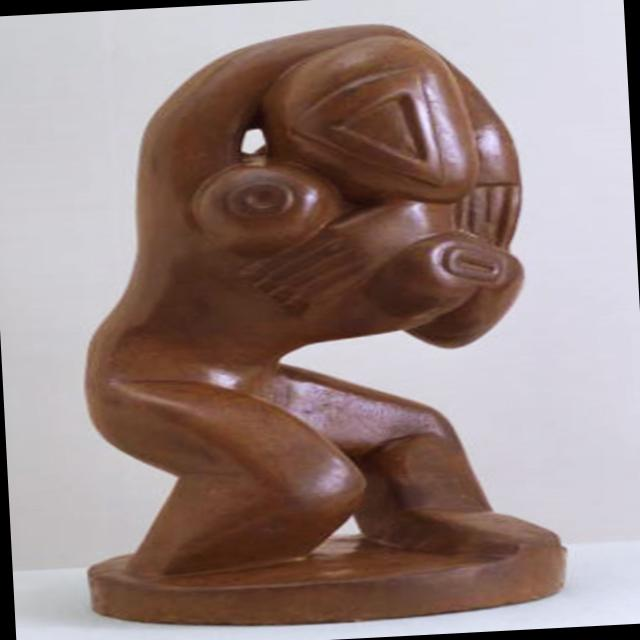Toy: (58, 14, 570, 636)
